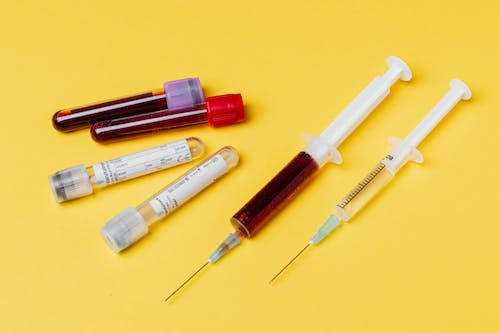blood: (215, 149, 321, 256), (89, 101, 209, 145), (50, 89, 167, 133)
